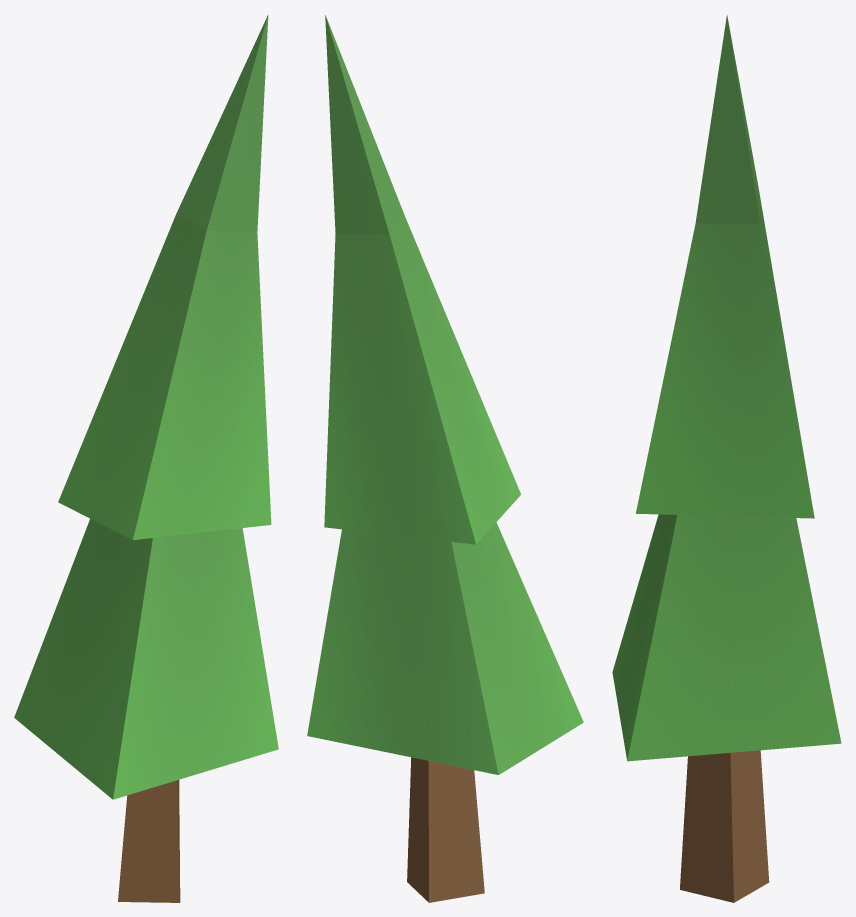
File: Fir_Tree_OneSided_s_09.fbx
3 views of the same model, side by side, from view 1: azimuth 30°, elevation 25°; view 2: azimuth 150°, elevation 25°; view 3: azimuth 270°, elevation 25° (orthographic). The views are drawn at different scales.
Visible parts, largest first — view 1: Fir_Tree_OneSided_s_09; view 2: Fir_Tree_OneSided_s_09; view 3: Fir_Tree_OneSided_s_09.
Boxes of the visible parts, x1=… form: Fir_Tree_OneSided_s_09: x1=14, y1=15, x2=278, y2=902; Fir_Tree_OneSided_s_09: x1=307, y1=15, x2=583, y2=902; Fir_Tree_OneSided_s_09: x1=612, y1=15, x2=841, y2=902.
Size of the model in its own units: 39.87 by 151 by 33.46.
